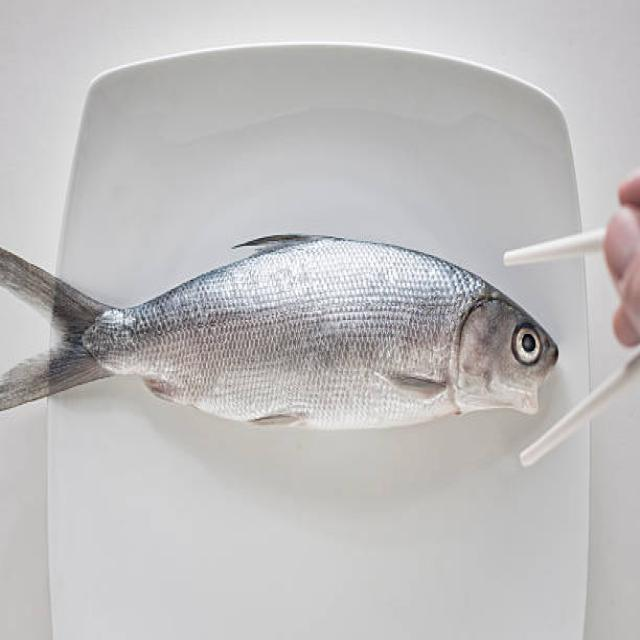Bangus: (0, 207, 573, 476)
